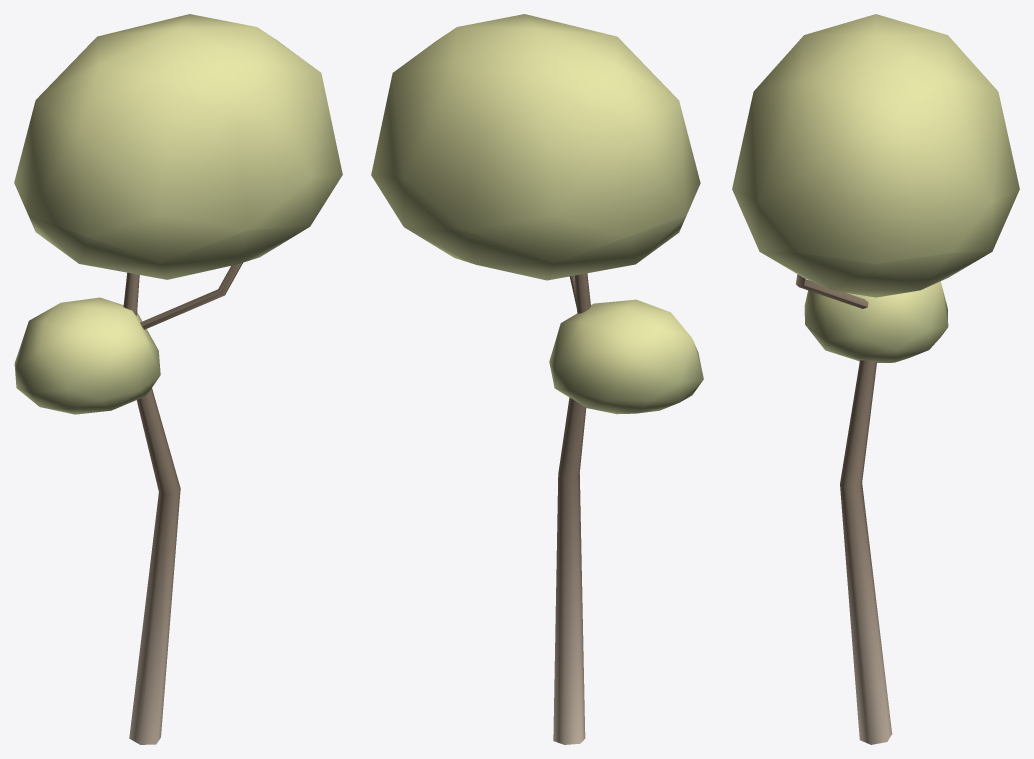
File: Tree.fbx
3 renders of one model, left to right at view 1: azimuth 30°, elevation 25°; view 2: azimuth 150°, elevation 25°; view 3: azimuth 270°, elevation 25°, orthographic. The views are drawn at different scales.
Parts seen in each view (by area): view 1: leaf_2, leaf, bark; view 2: leaf_2, leaf, bark; view 3: leaf_2, bark, leaf.
Boxes of the visible parts, x1,y1,x2,y2 form: leaf_2: (14, 14, 342, 279); leaf: (14, 297, 160, 414); bark: (123, 263, 242, 744); leaf_2: (371, 14, 700, 280); leaf: (549, 299, 703, 414); bark: (553, 273, 590, 744); leaf_2: (732, 14, 1019, 297); bark: (795, 274, 892, 744); leaf: (804, 281, 948, 362).
Size of the model in its own units: 471 by 1029 by 373.
Materials: 2 (2 with a texture image).
